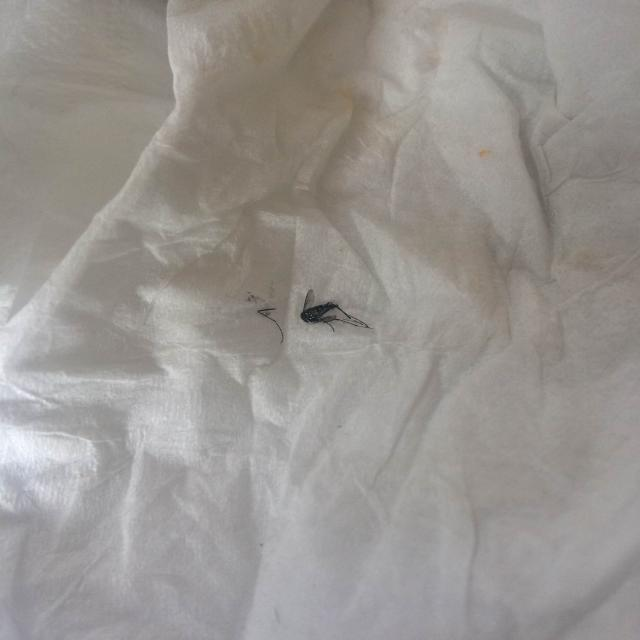albopictus: (248, 283, 376, 344)
